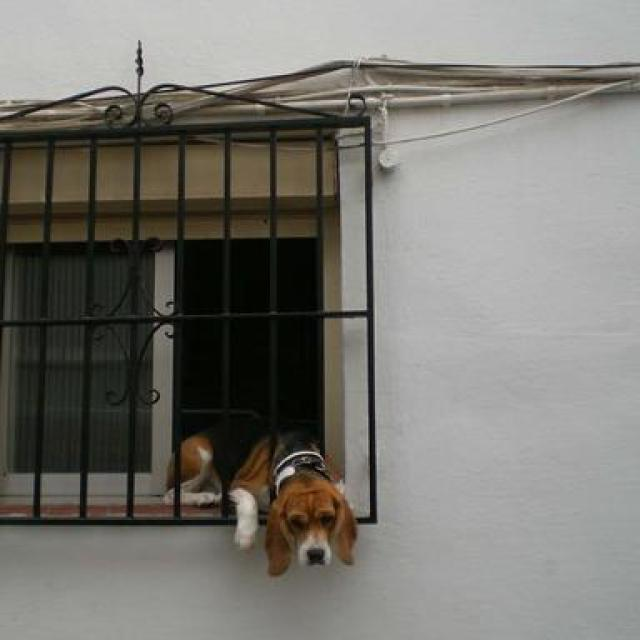sad: (174, 412, 386, 580)
